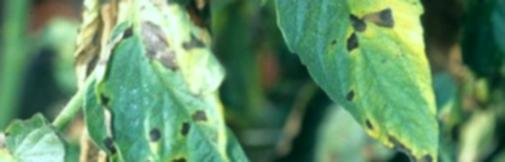Tomato Early blight leaf: (251, 0, 460, 162), (97, 0, 302, 162)
